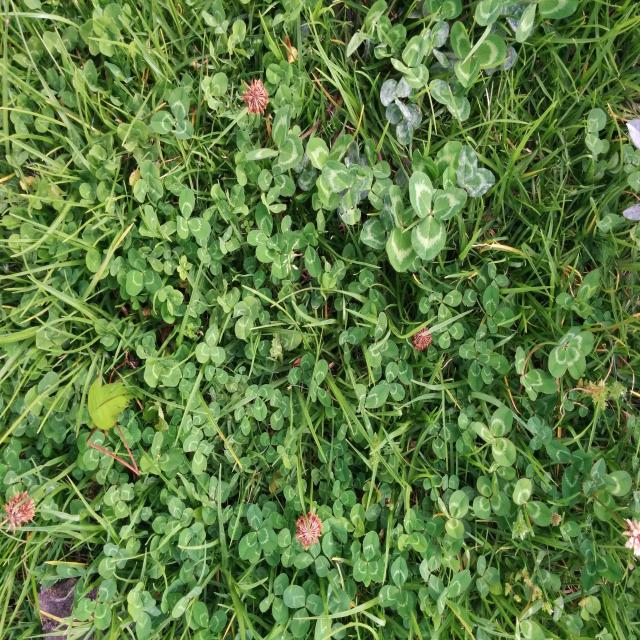Four Leaf Clover: (548, 326, 594, 379)
